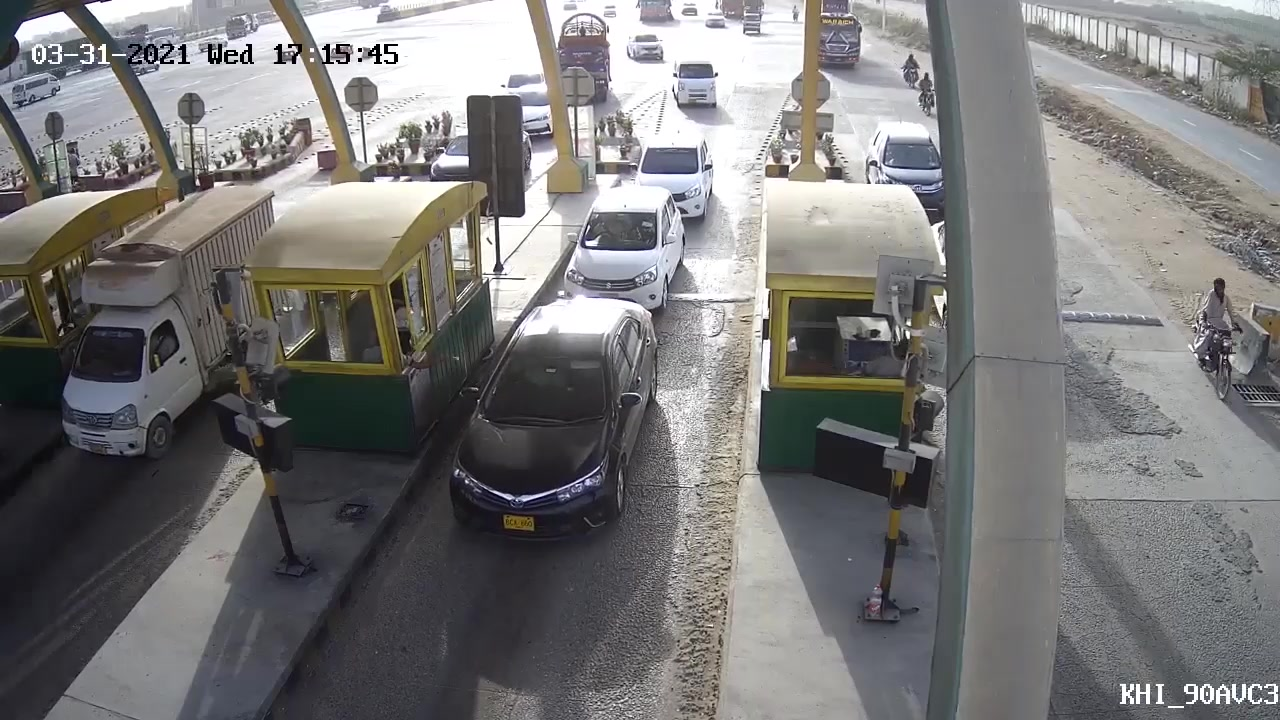F1: (441, 292, 672, 562), (553, 181, 684, 309)
